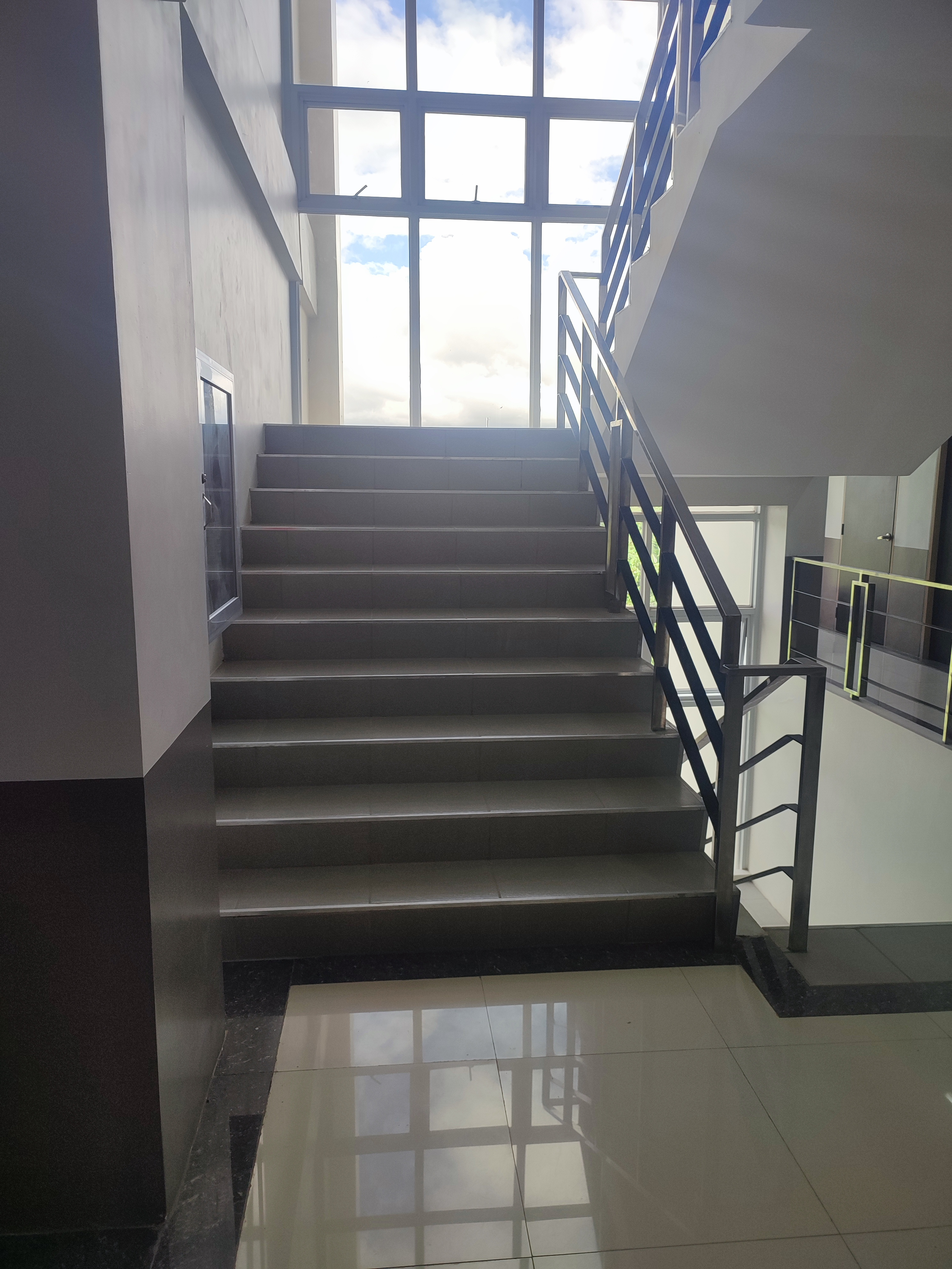Staircase: (211, 424, 734, 1008)
